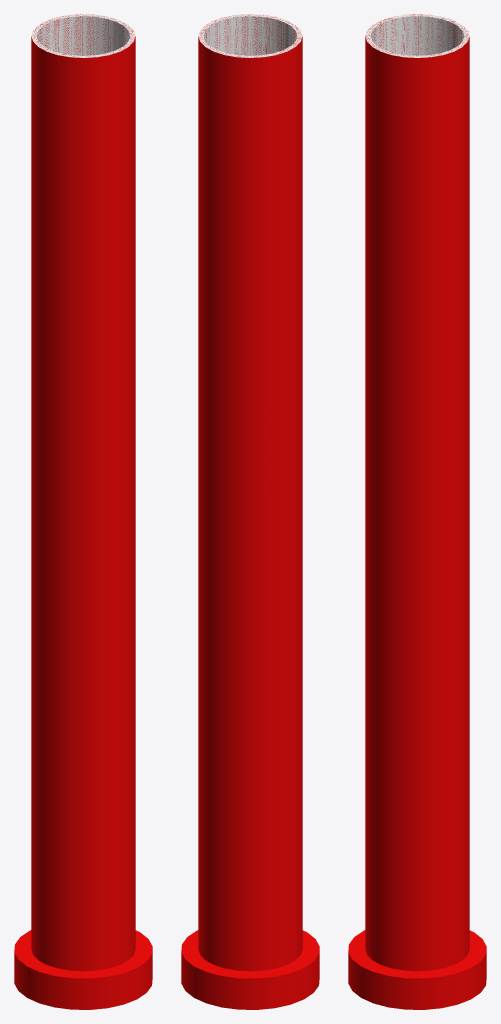
Rendered from red_flare_1.dae.
3 views of the same model, side by side, from view 1: azimuth 30°, elevation 25°; view 2: azimuth 150°, elevation 25°; view 3: azimuth 270°, elevation 25° (orthographic).
Parts seen in each view (by area): view 1: SketchUp (×3); view 2: SketchUp (×3); view 3: SketchUp (×3).
Boxes of the visible parts, left/top/right/bottom form: SketchUp (×3): left=14, top=14, right=152, bottom=1009; SketchUp (×3): left=181, top=14, right=319, bottom=1009; SketchUp (×3): left=348, top=14, right=486, bottom=1009.
Size of the model in its own units: 7.84 by 7.84 by 59.06.
